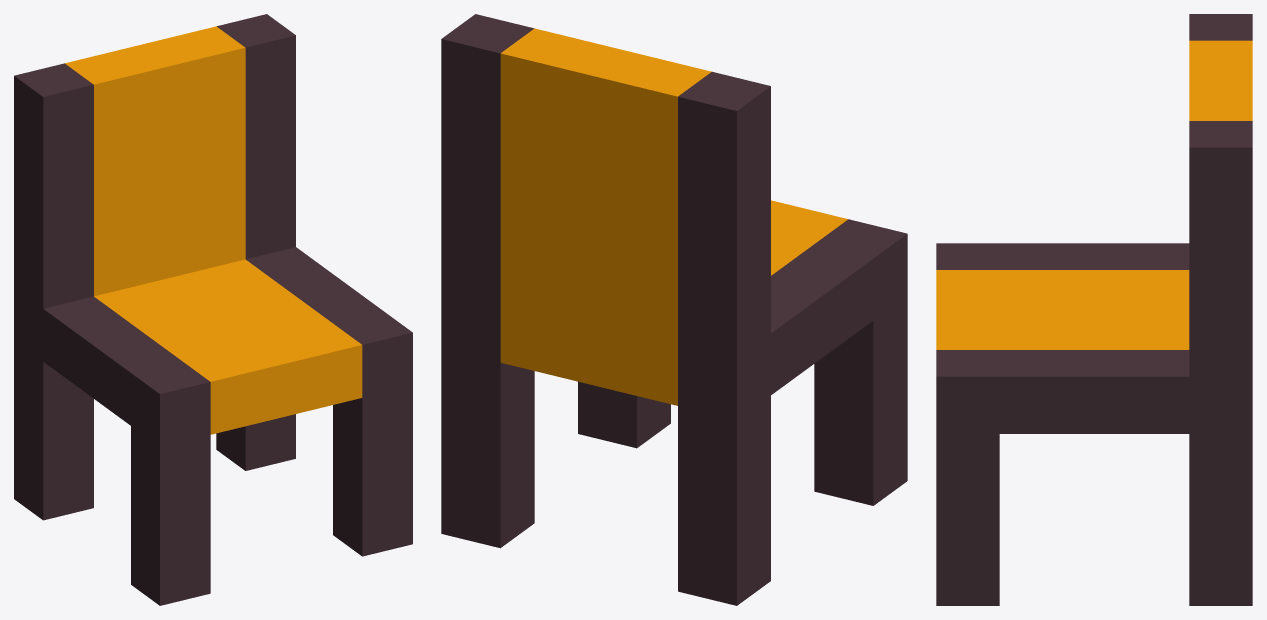
The model's file is chair_c_yellow.obj.
3 renders of one model, left to right at view 1: azimuth 30°, elevation 25°; view 2: azimuth 150°, elevation 25°; view 3: azimuth 270°, elevation 25°, orthographic. The views are drawn at different scales.
Bounding box in the file's own units: 0.5 × 0.8 × 0.5.
1 material, 1 textured.
